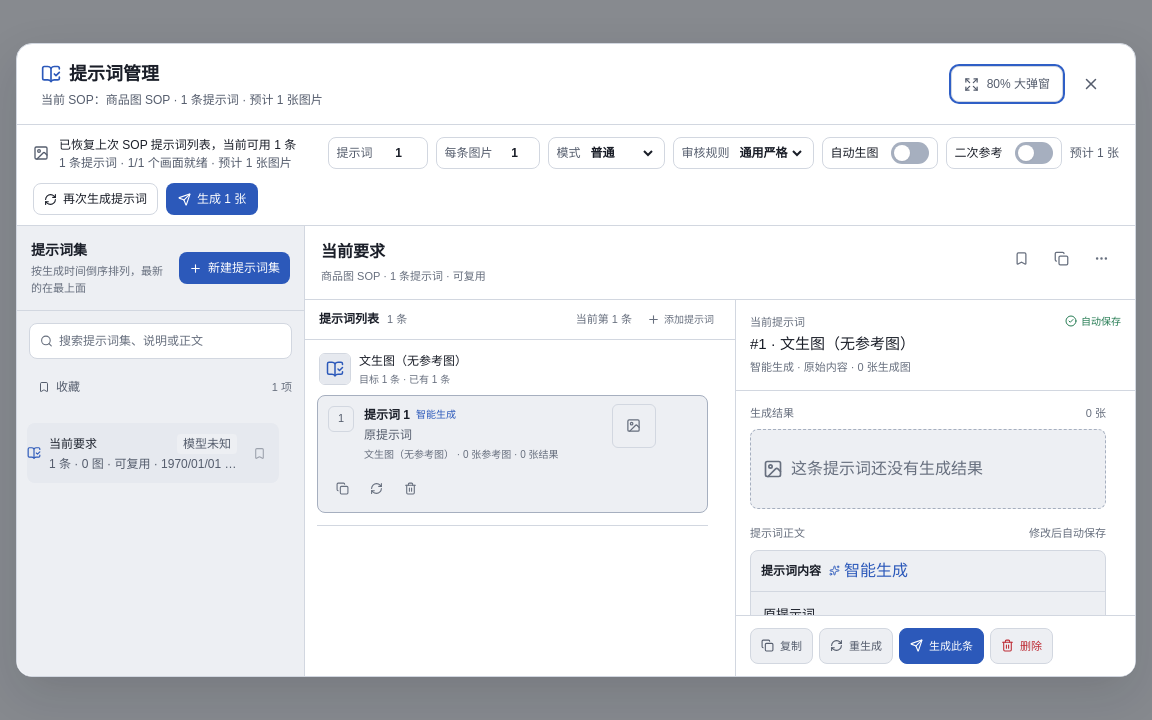
GallerySopBatchModal background generation › keeps the current prompt set in history when generating a new version
Click the button "再次生成提示词" at (96, 199), box [33,183,158,215]
(page scrolled)
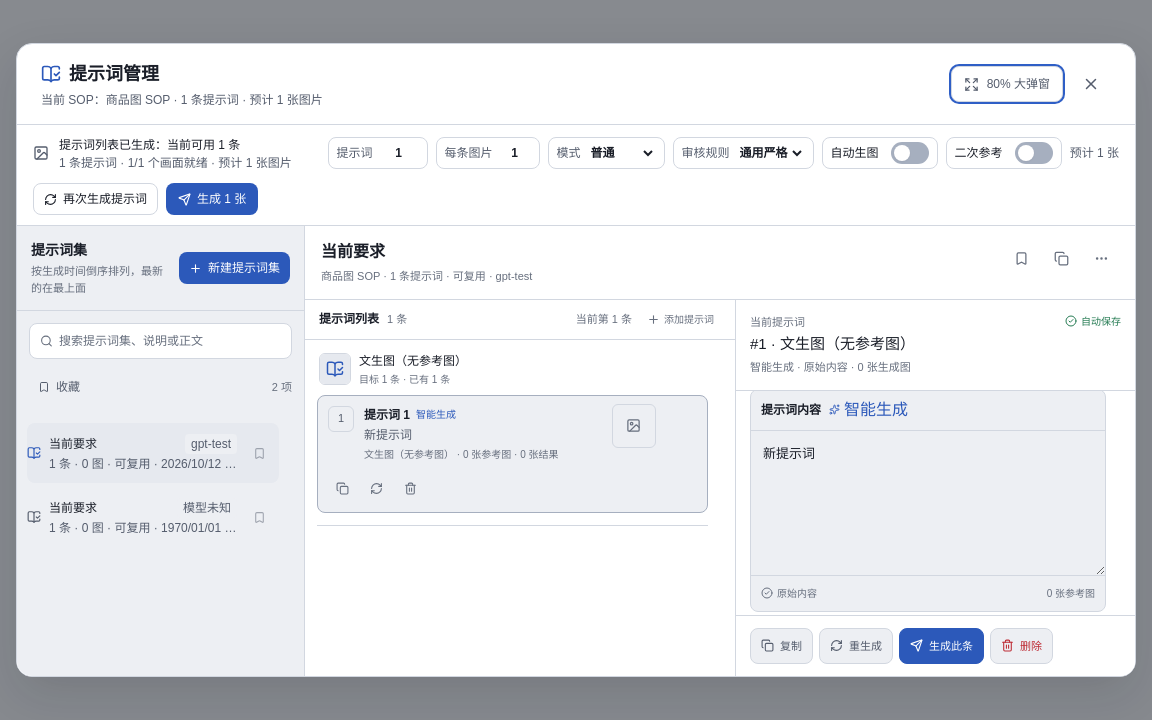
Expected: the text box named "第 1 条提示词" holds "新提示词", [751,431,1105,575]
